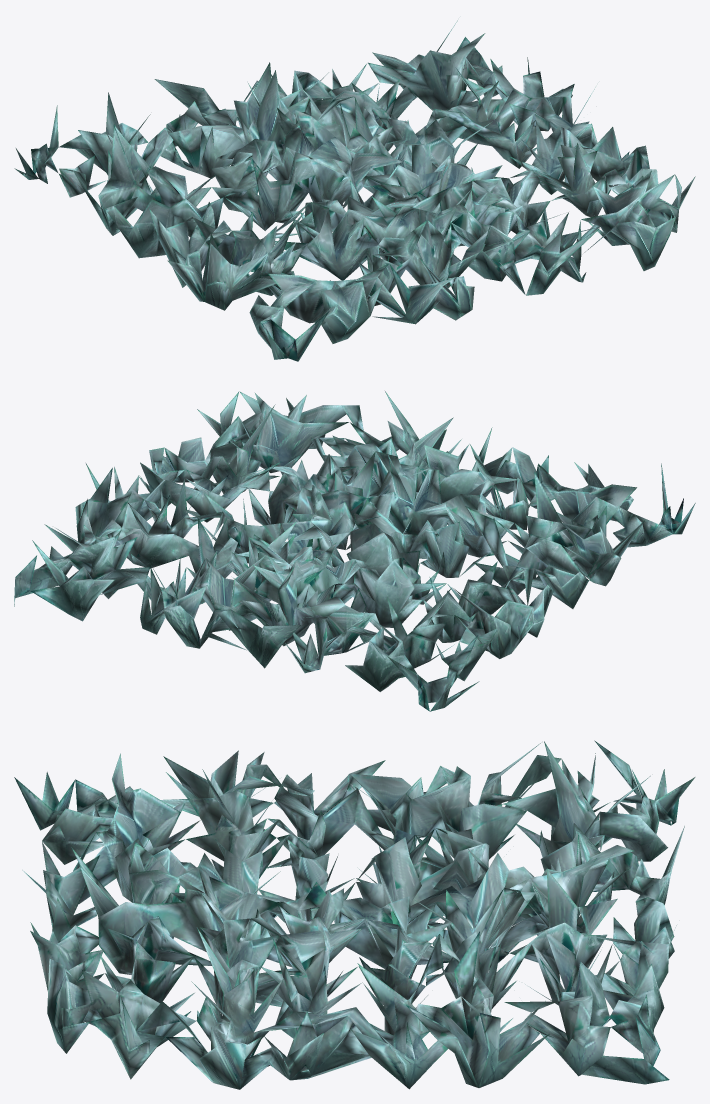
3 views of the same model, one above another, from view 1: azimuth 30°, elevation 25°; view 2: azimuth 150°, elevation 25°; view 3: azimuth 270°, elevation 25° (orthographic). The views are drawn at different scales.
Visible parts, largest first — view 1: Mesh_0; view 2: Mesh_0; view 3: Mesh_0.
Boxes of the visible parts, x1=… form: Mesh_0: x1=14, y1=20, x2=695, y2=361; Mesh_0: x1=14, y1=391, x2=695, y2=711; Mesh_0: x1=14, y1=740, x2=695, y2=1089.
Bounding box in the file's own units: 1.8 × 0.3292 × 1.74.
1 material, 1 textured.
